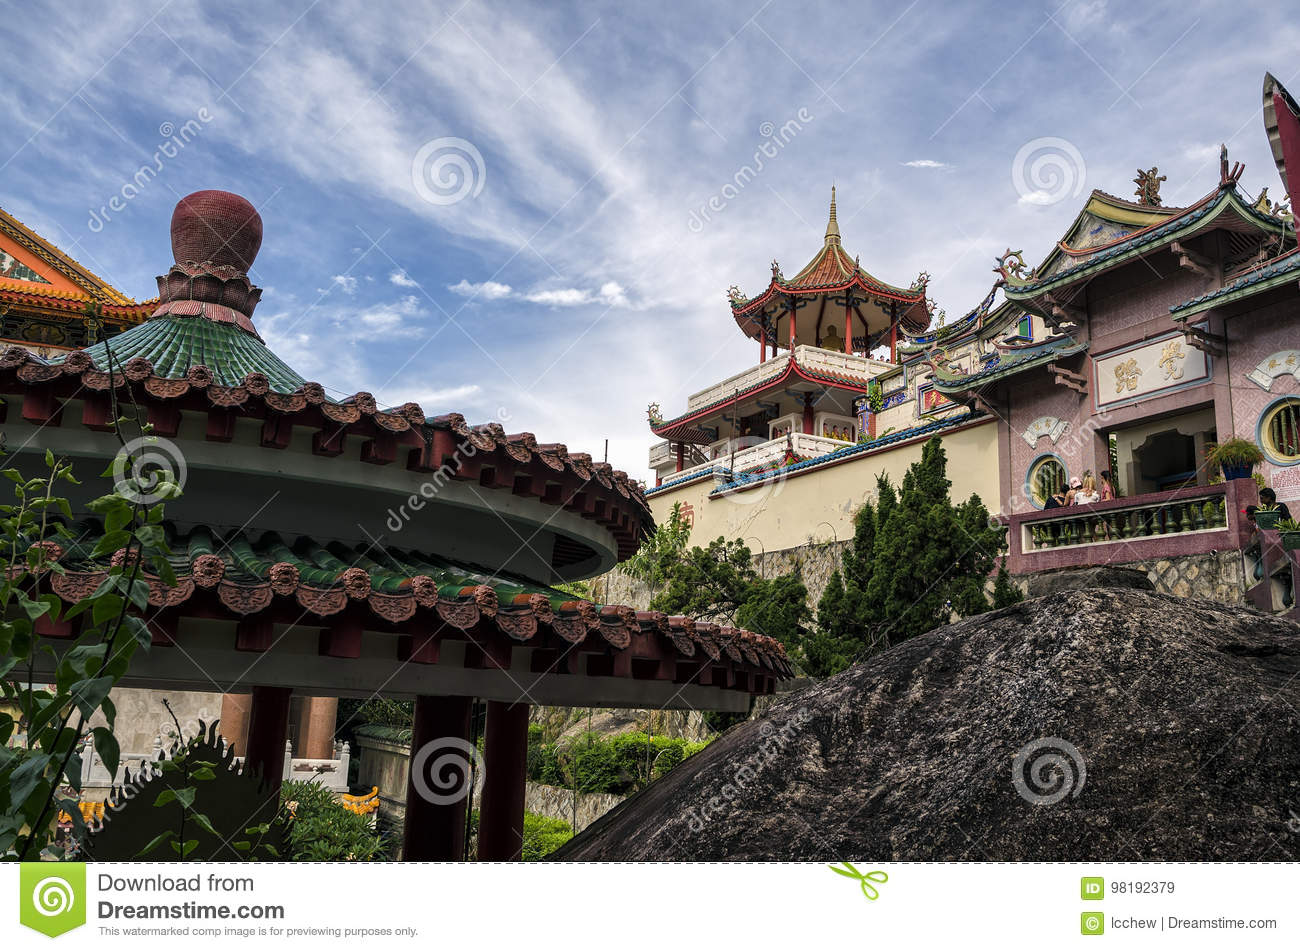Buddhist Temple: (615, 191, 939, 430)
